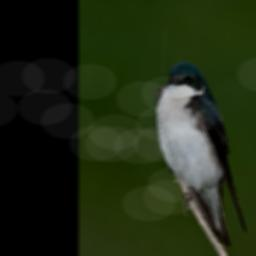Swallow: (141, 52, 256, 252)
